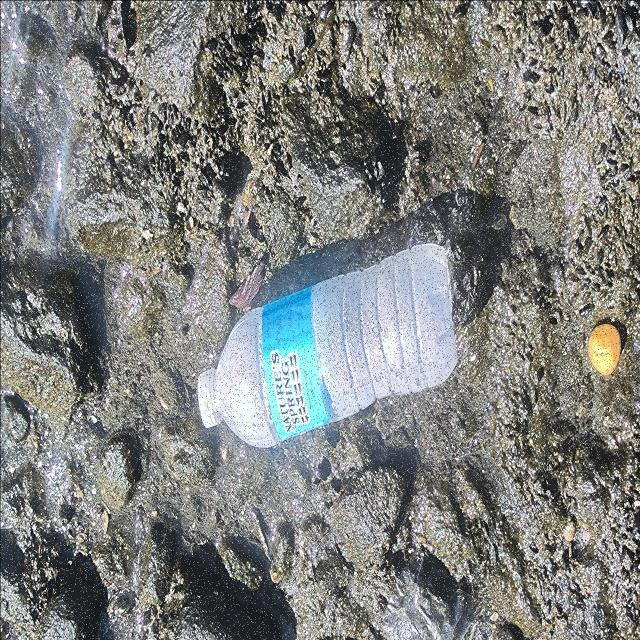plastic_waste: (197, 242, 457, 450)
